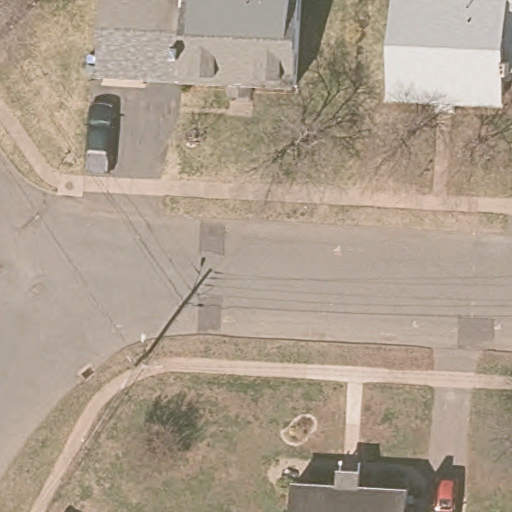DT: (119, 348, 152, 392)
